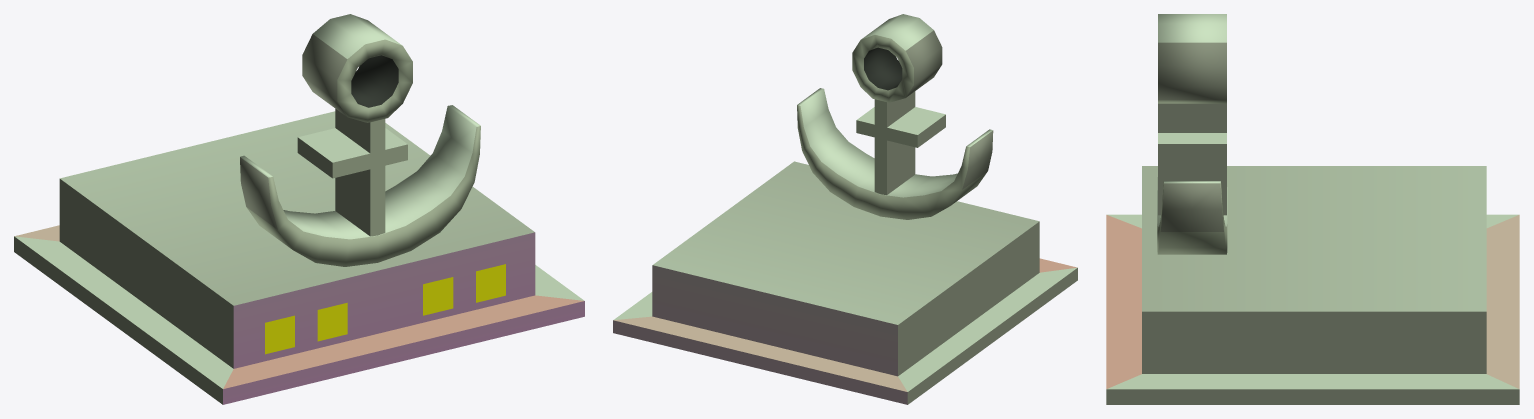
Rendered from Port.JadeSun.glb.
3 views of the same model, side by side, from view 1: azimuth 30°, elevation 25°; view 2: azimuth 150°, elevation 25°; view 3: azimuth 270°, elevation 25° (orthographic). The views are drawn at different scales.
Parts seen in each view (by area): view 1: Port.JadeSun; view 2: Port.JadeSun; view 3: Port.JadeSun.
Part boxes in pixels (x1,y1,x2,y2): Port.JadeSun: (14, 14, 584, 404); Port.JadeSun: (613, 14, 1077, 404); Port.JadeSun: (1106, 14, 1519, 404).
Size of the model in its own units: 2.4 by 1.9 by 2.4.
Materials: 2 (1 with a texture image).
